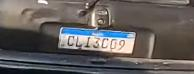Placa_mercosul_carro: (59, 27, 136, 54)
